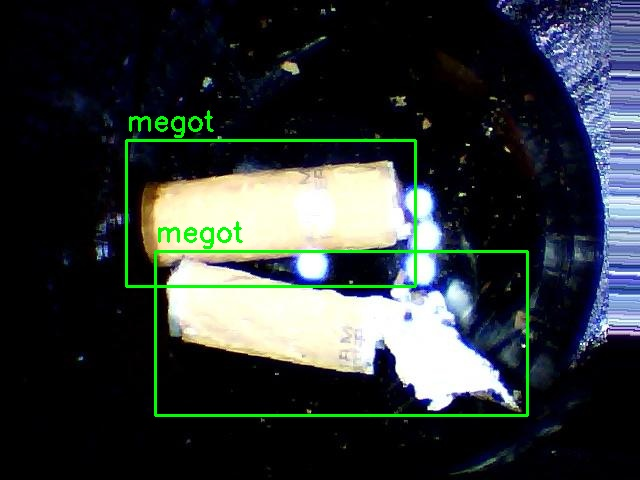megot: (155, 251, 527, 415), (126, 140, 415, 286)
